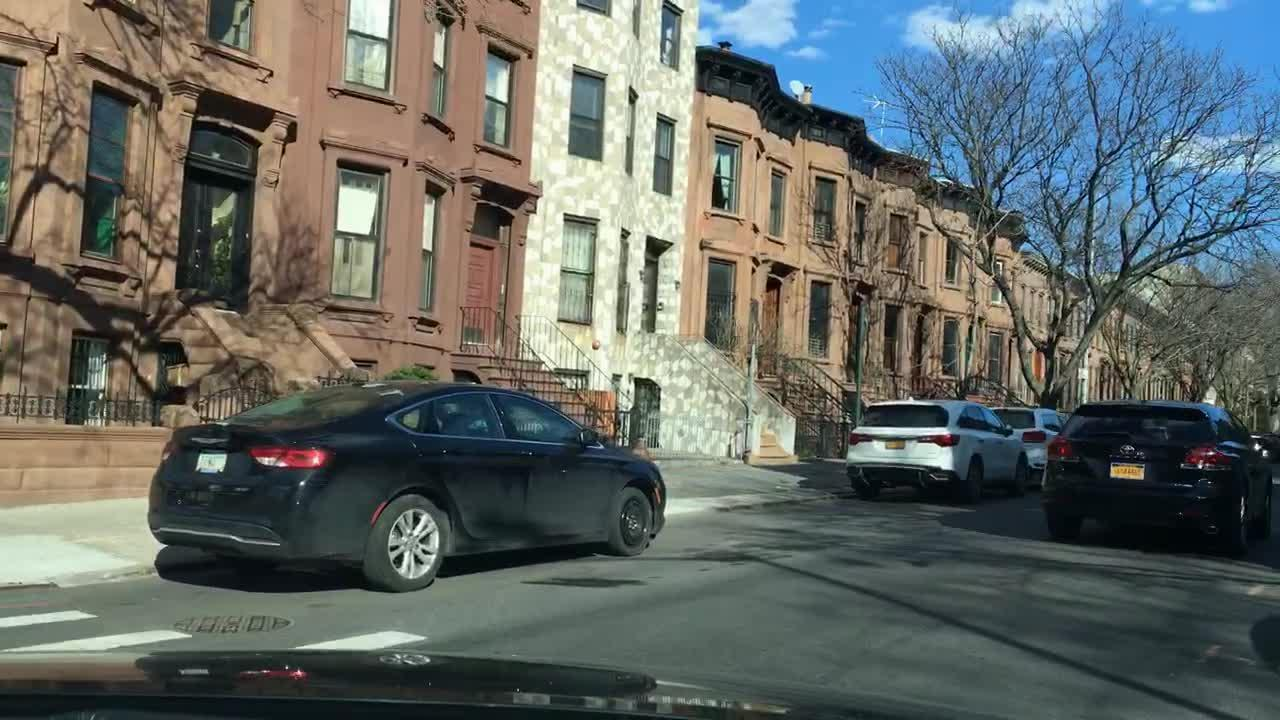Chrysler: (183, 429, 232, 452)
Toyota: (1120, 444, 1137, 457)
